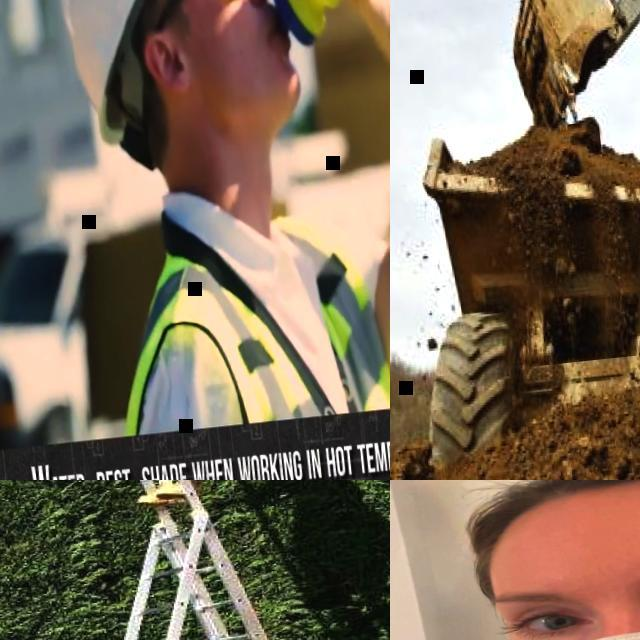helmet: (56, 0, 267, 151)
vest: (104, 188, 390, 437)
